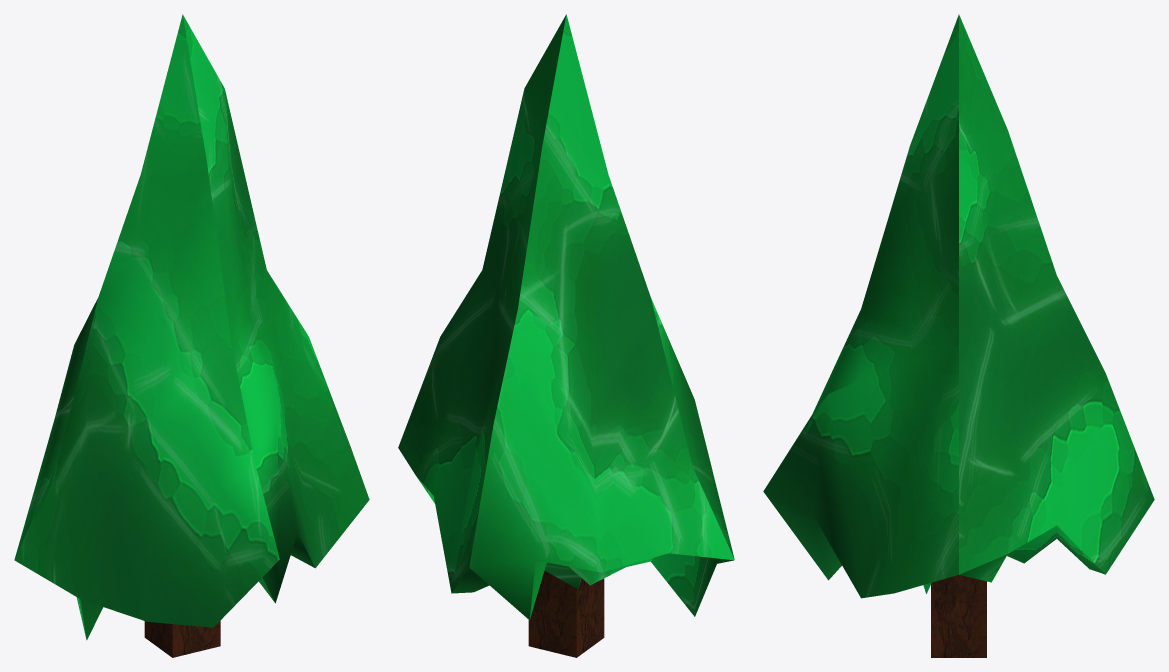
Rendered from pinetree3.fbx.
The picture shows the model from 3 angles, left to right: view 1: azimuth 30°, elevation 25°; view 2: azimuth 150°, elevation 25°; view 3: azimuth 270°, elevation 25°; orthographic projection.
Parts seen in each view (by area): view 1: polymsh; view 2: polymsh; view 3: polymsh.
Part boxes in pixels (box(x1,y1,x2,y2)): polymsh: box(14, 14, 369, 657); polymsh: box(398, 14, 734, 657); polymsh: box(763, 14, 1154, 657).
Size of the model in its own units: 55.98 by 99.76 by 55.98.
